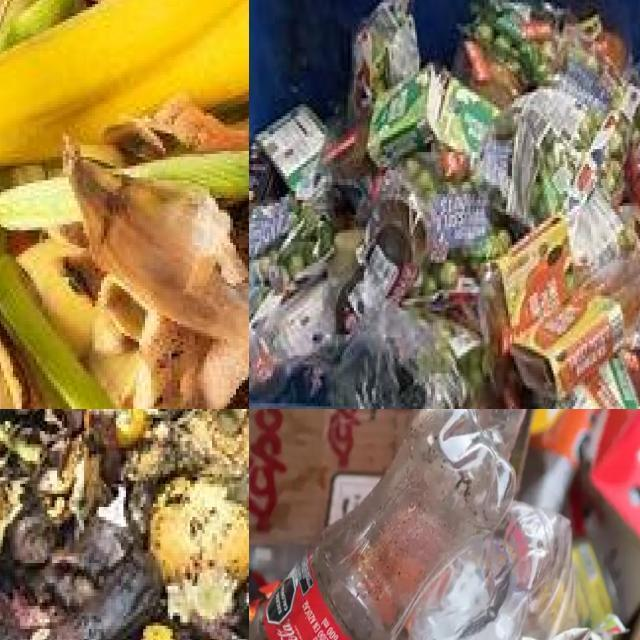Garbage: (249, 0, 640, 409), (249, 409, 640, 640), (0, 409, 249, 640)
Plastic_Bag: (327, 305, 468, 409), (249, 258, 336, 395), (507, 86, 590, 225), (568, 190, 623, 270), (429, 190, 490, 262)
Plastic_bottle: (249, 409, 516, 640), (408, 501, 576, 640), (571, 540, 613, 628)
